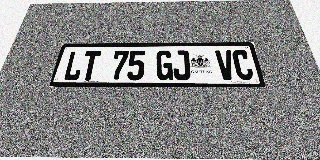5: (127, 51, 145, 80)
7: (109, 51, 129, 80)
C: (231, 50, 255, 80)
G: (156, 50, 173, 80)
J: (173, 50, 191, 80)
L: (62, 51, 85, 81)
T: (79, 51, 101, 81)
V: (215, 50, 237, 80)
